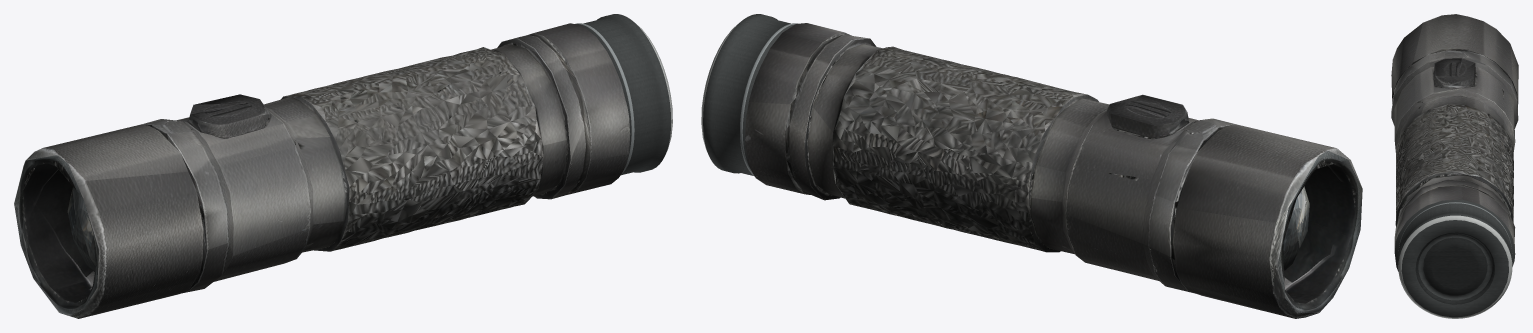
The model's file is Pickup_Flashlight.fbx.
The picture shows the model from 3 angles, left to right: view 1: azimuth 30°, elevation 25°; view 2: azimuth 150°, elevation 25°; view 3: azimuth 270°, elevation 25°; orthographic projection. The views are drawn at different scales.
Parts seen in each view (by area): view 1: Pickup_Flashlight; view 2: Pickup_Flashlight; view 3: Pickup_Flashlight.
Part boxes in pixels (x1=…): Pickup_Flashlight: x1=14, y1=14, x2=672, y2=318; Pickup_Flashlight: x1=701, y1=14, x2=1362, y2=318; Pickup_Flashlight: x1=1391, y1=14, x2=1518, y2=318.
Size of the model in its own units: 17 by 4.59 by 4.55.
